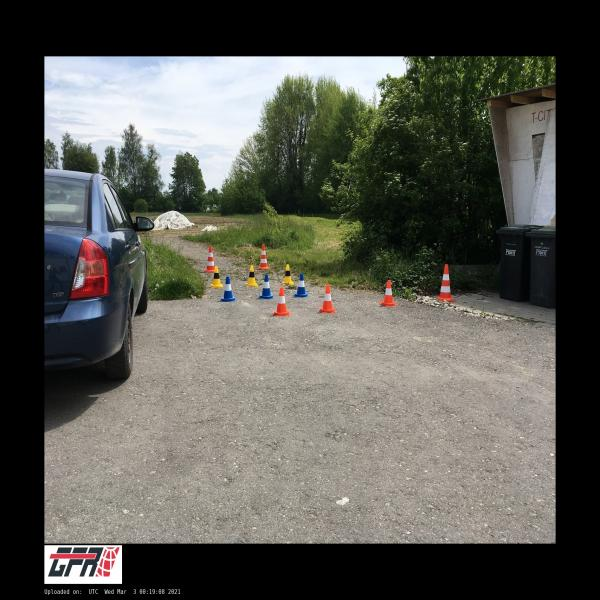blue_cone: (221, 276, 236, 302), (294, 273, 309, 297), (259, 274, 274, 298)
large_orange_cone: (438, 265, 456, 301), (258, 244, 270, 270), (204, 246, 215, 271)
orange_cone: (272, 287, 291, 317), (318, 285, 337, 313), (380, 279, 395, 303)
yellow_cone: (211, 266, 222, 288), (282, 265, 294, 285), (246, 266, 258, 286)
